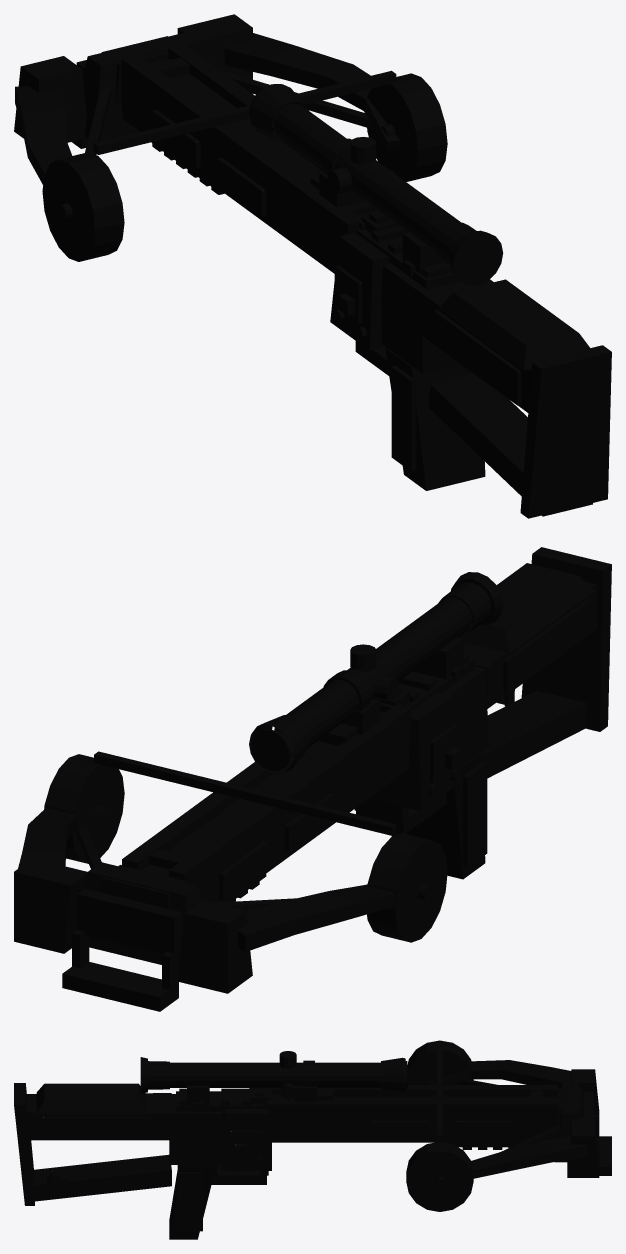
The model's file is crossbow.obj.
3 views of the same model, one above another, from view 1: azimuth 30°, elevation 25°; view 2: azimuth 150°, elevation 25°; view 3: azimuth 270°, elevation 25° (orthographic). The views are drawn at different scales.
Visible parts, largest first — view 1: crossbow; view 2: crossbow; view 3: crossbow.
Part boxes in pixels (x1=…): crossbow: x1=14, y1=14, x2=611, y2=518; crossbow: x1=14, y1=547, x2=611, y2=1011; crossbow: x1=14, y1=1040, x2=611, y2=1239.
Bounding box in the file's own units: 0.4025 × 0.2875 × 0.8863.
